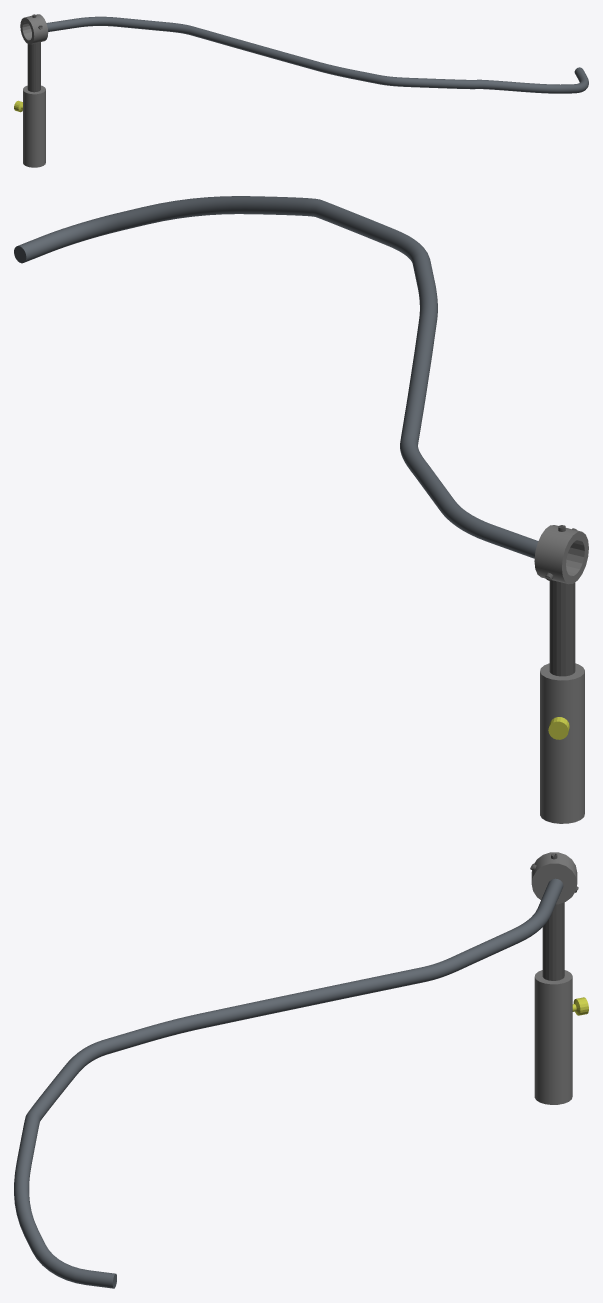
Rendered from Optical_channel_4.glb.
3 views of the same model, one above another, from view 1: azimuth 30°, elevation 25°; view 2: azimuth 150°, elevation 25°; view 3: azimuth 270°, elevation 25° (orthographic). The views are drawn at different scales.
Parts seen in each view (by area): view 1: Line004, Cylinder359, Cylinder008, Object022; view 2: Line004, Cylinder359, Cylinder008, Object022; view 3: Line004, Cylinder359, Cylinder008, Object022.
Boxes of the visible parts, <box> form: Line004: <box>46,16,588,93</box>; Cylinder359: <box>23,85,45,167</box>; Cylinder008: <box>20,14,48,44</box>; Object022: <box>27,42,40,92</box>; Line004: <box>14,196,538,558</box>; Cylinder359: <box>540,663,584,823</box>; Cylinder008: <box>534,525,588,584</box>; Object022: <box>549,580,575,676</box>; Line004: <box>14,878,563,1288</box>; Cylinder359: <box>534,970,572,1104</box>; Cylinder008: <box>531,852,577,904</box>; Object022: <box>542,902,564,980</box>.
Bounding box in the file's own units: 21.29 × 7.03 × 15.12.
